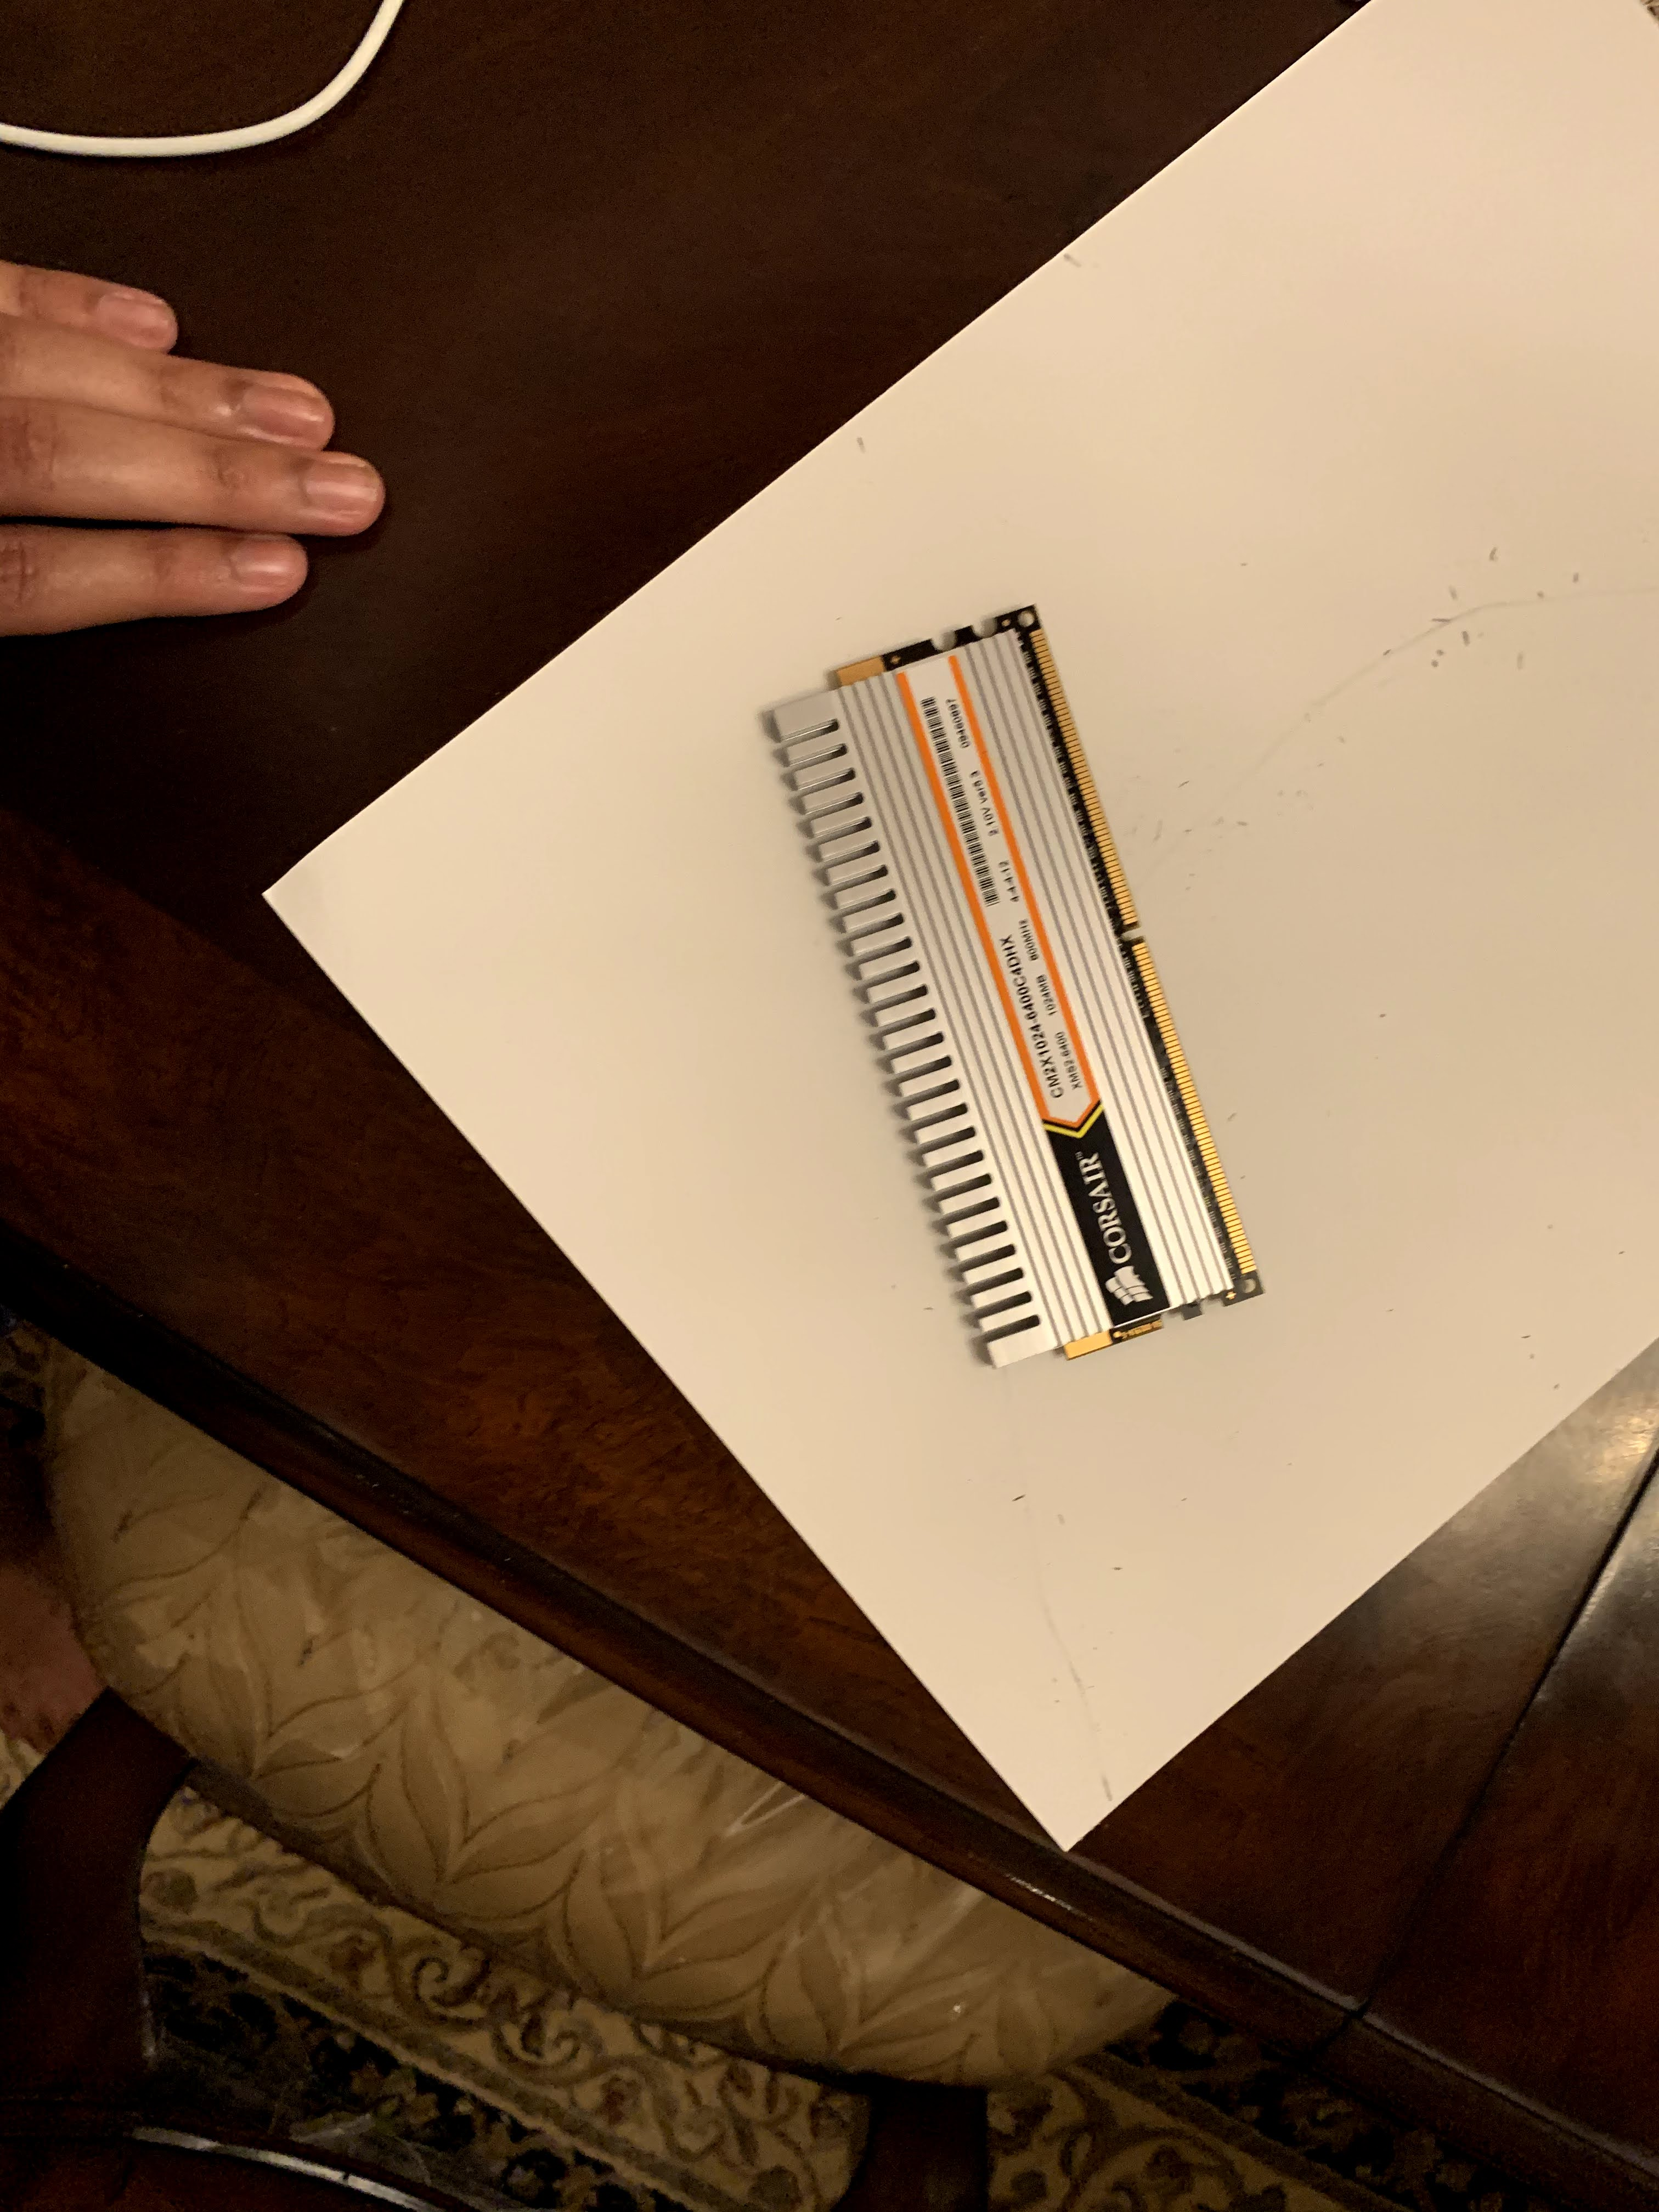Space-debris-medium: (714, 590, 1298, 1390)
